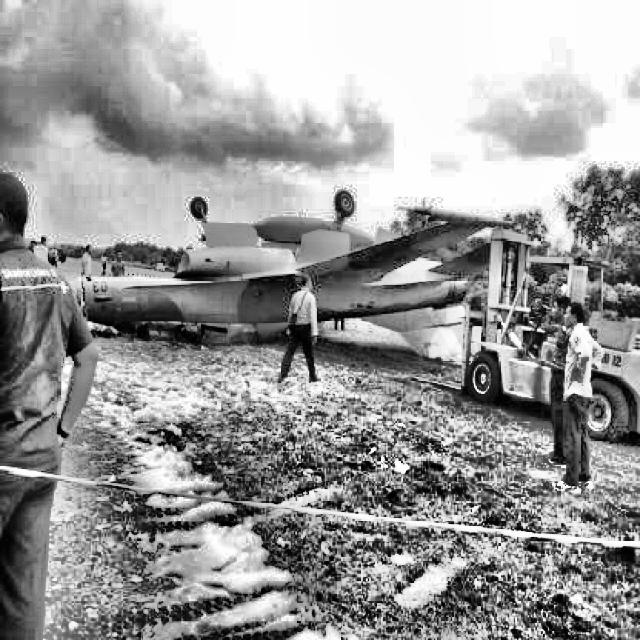F16: (68, 189, 512, 368)
